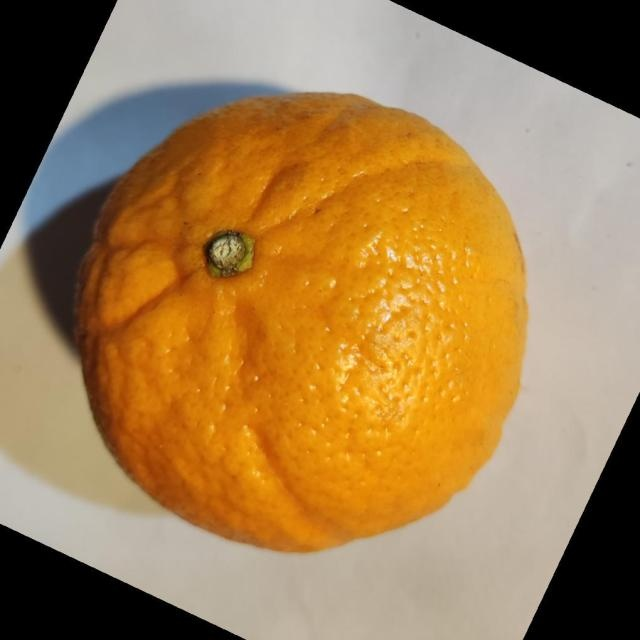agrume: (72, 90, 530, 554)
